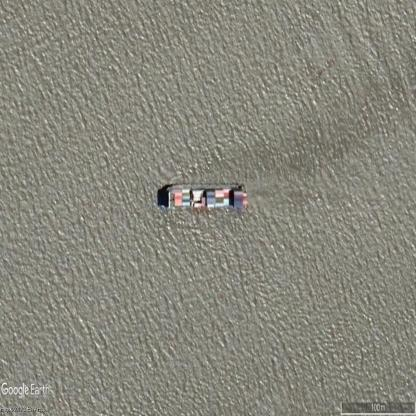ship: (167, 185, 249, 215)
